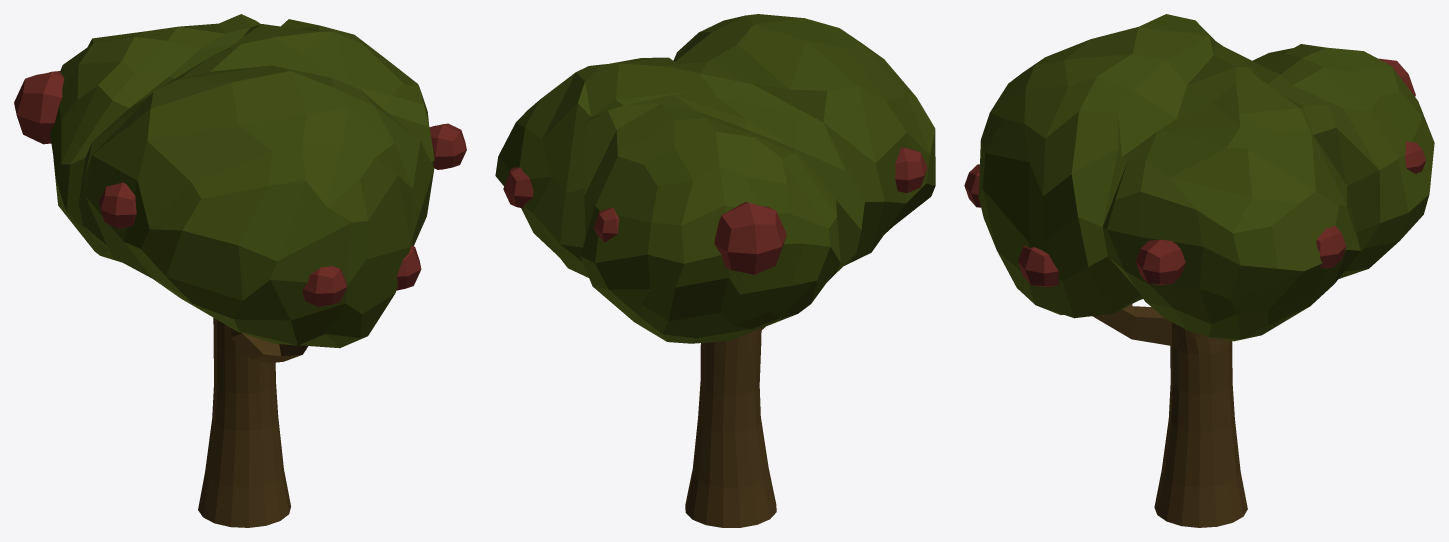
Rendered from apple_tree.fbx.
3 views of the same model, side by side, from view 1: azimuth 30°, elevation 25°; view 2: azimuth 150°, elevation 25°; view 3: azimuth 270°, elevation 25° (orthographic).
Visible parts, largest first — view 1: apple_tree; view 2: apple_tree; view 3: apple_tree.
Part boxes in pixels (x1,y1,x2,y2): apple_tree: (14,14,466,527); apple_tree: (495,14,935,527); apple_tree: (964,14,1434,527).
Size of the model in its own units: 482 by 573 by 531.
